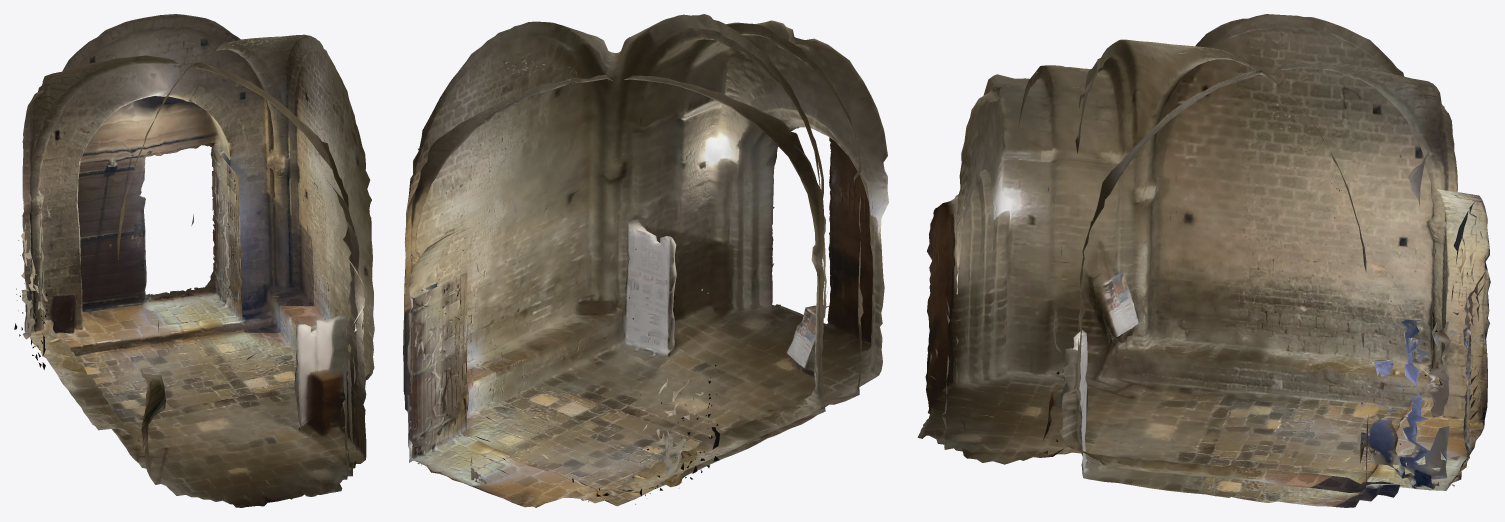
File: medium.glb
The picture shows the model from 3 angles, left to right: view 1: azimuth 30°, elevation 25°; view 2: azimuth 150°, elevation 25°; view 3: azimuth 270°, elevation 25°; orthographic projection. The views are drawn at different scales.
Parts seen in each view (by area): view 1: medium.009; view 2: medium.009; view 3: medium.009.
Part boxes in pixels (left/top/right/bottom): medium.009: left=14, top=14, right=374, bottom=507; medium.009: left=403, top=14, right=888, bottom=507; medium.009: left=917, top=14, right=1490, bottom=507.
Size of the model in its own units: 5.28 by 5.79 by 7.73.
Materials: 1 (1 with a texture image).
